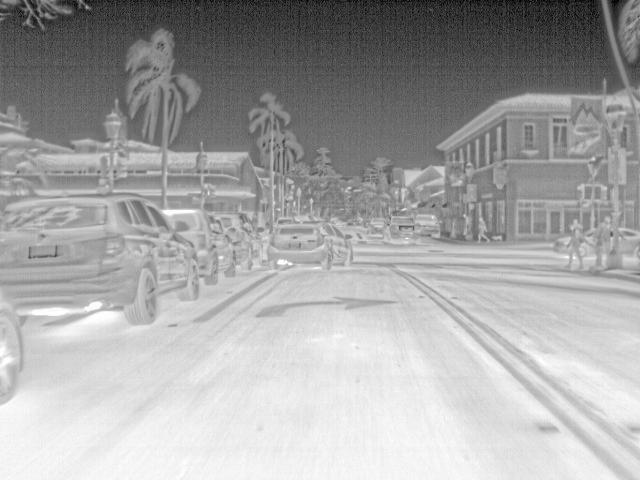car: (1, 190, 202, 322), (159, 207, 238, 286), (268, 218, 354, 270), (218, 212, 265, 271), (1, 295, 25, 407), (412, 213, 443, 238), (615, 227, 640, 257), (389, 215, 415, 240), (369, 220, 387, 238)
person: (565, 218, 587, 272), (591, 215, 612, 270), (478, 216, 491, 244), (461, 213, 474, 239)
